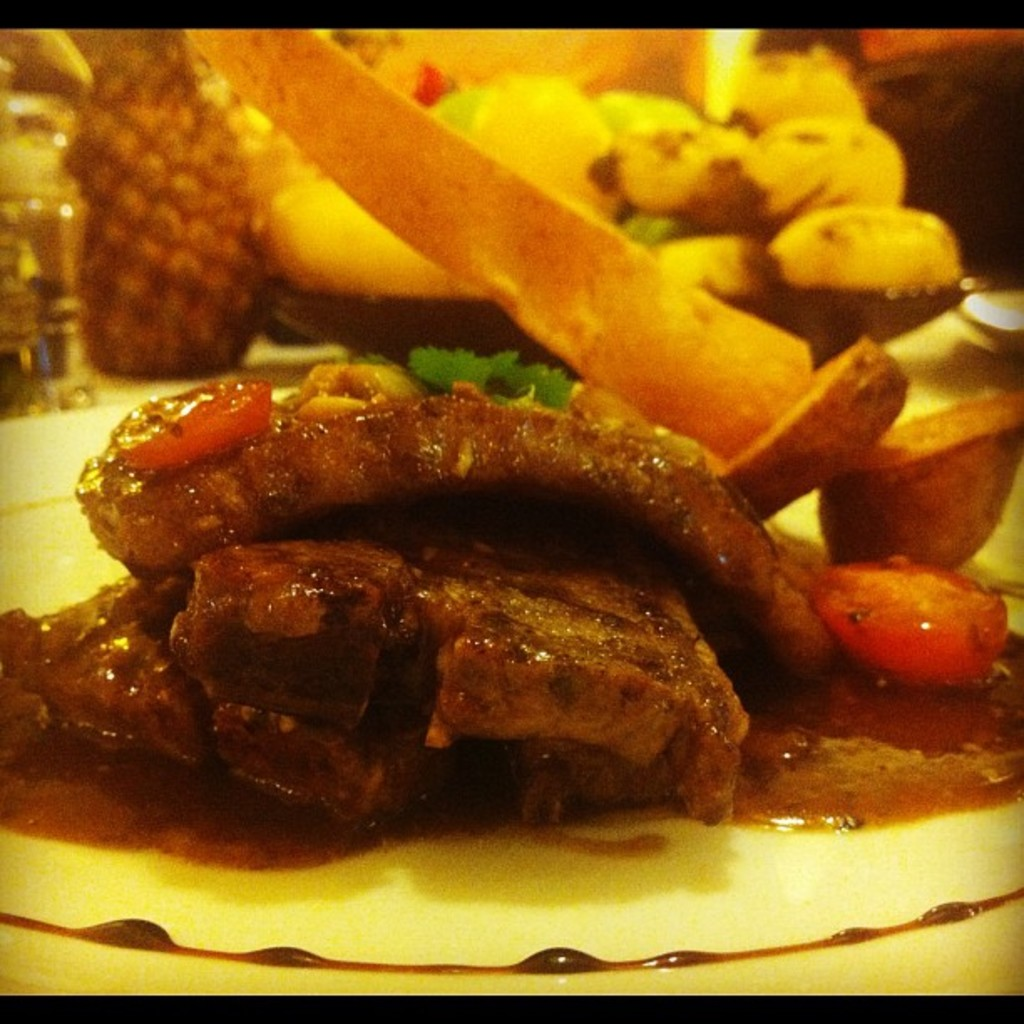French fries: (174, 16, 814, 470)
